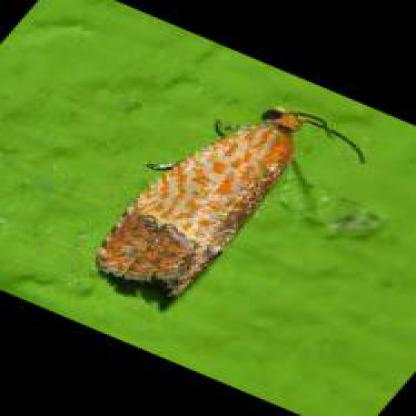Leaf Webber: (96, 105, 373, 311)
